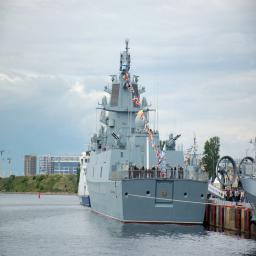Fragata: (84, 31, 210, 228)
